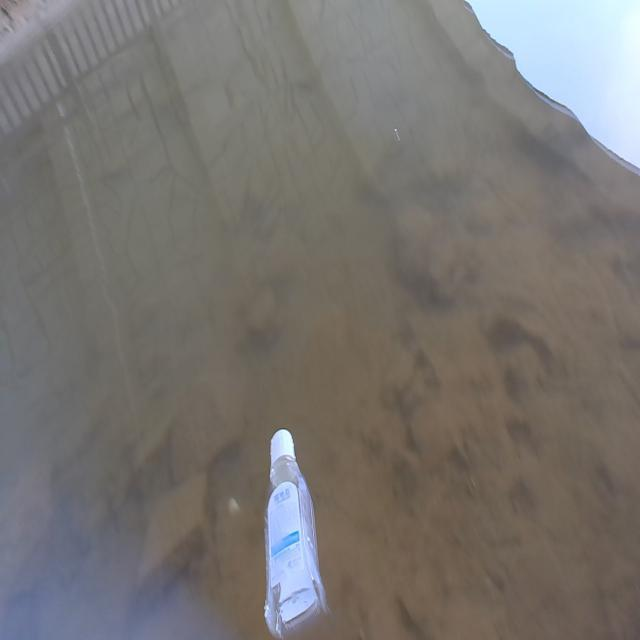bottle: (239, 376, 351, 640)
